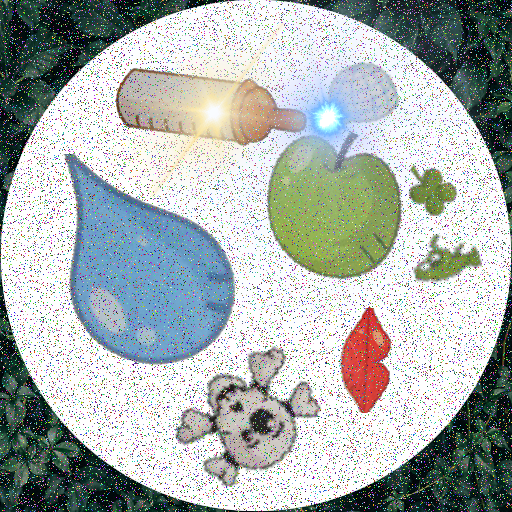apple_icon: (246, 128, 406, 288)
bottle_icon: (111, 11, 309, 209)
cloverleaf_icon: (405, 158, 463, 216)
dino_icon: (413, 232, 482, 301)
igloo_icon: (310, 57, 399, 146)
lips_icon: (308, 308, 413, 413)
raindrop_icon: (31, 154, 252, 375)
skull_icon: (166, 341, 328, 503)
